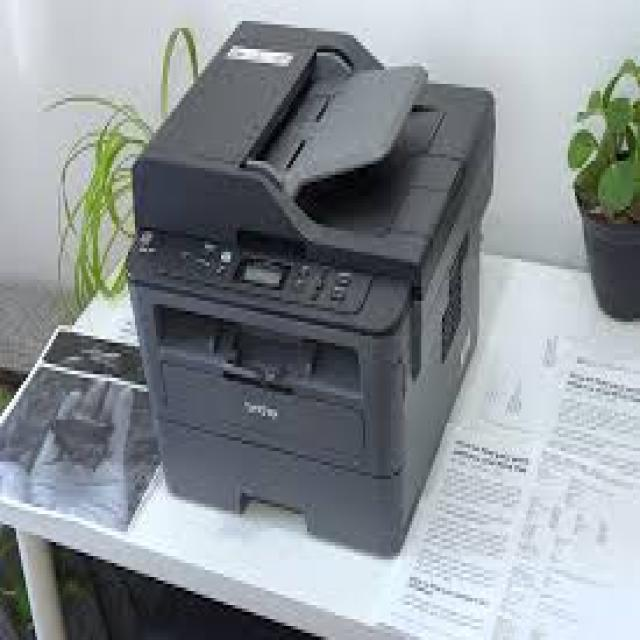printer: (123, 18, 496, 556)
